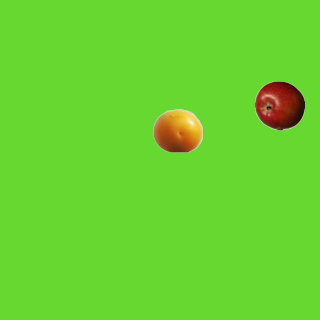Apple Braeburn: (254, 80, 304, 130)
Cherry Wax Yellow: (152, 105, 202, 155)
